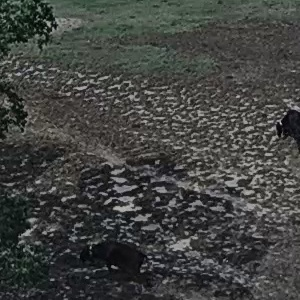cow: (70, 235, 189, 288)
